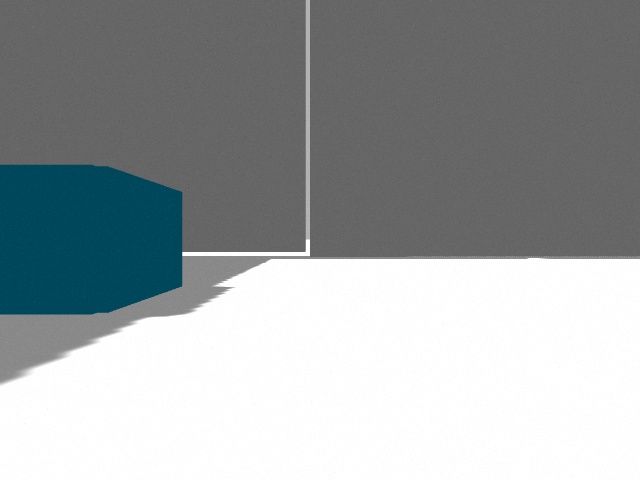blue_drop_zone: (0, 165, 182, 315)
